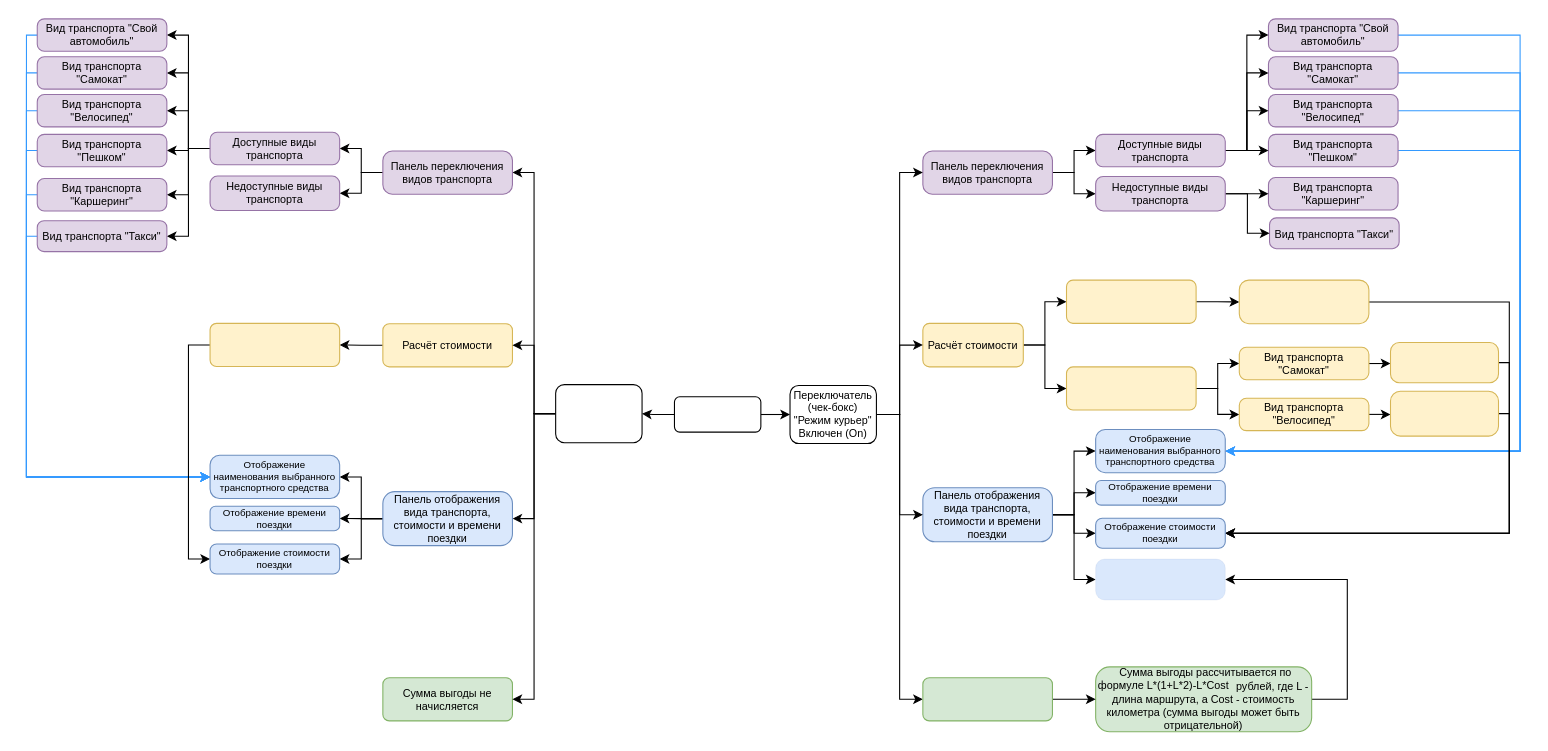
This 1548x751 diagram has some shape labels left out. Each missing label, with the centre of its shape:
1,5 руб. за км. (-1,5 руб. от базовой стоимости аренды): [1443,413]
10 руб. за км. (-10 руб. от базовой стоимости передвижения): [1303,301]
2 руб. за км. (-3,5 руб. от базовой стоимости аренды): [1443,362]
Курьерский режим: [717,414]
Начисление суммы выгоды: [987,699]
Отображение суммы выгоды (выгода может быть отрицательной): [1160,579]
Переключатель (чек-бокс) "Режим курьер Выключен (Off): [598,413]
Происходит как обычно (без учета скидок): [274,344]
Расходы на в ид транспорта "Свой автомобиль": [1130,301]
Расчёт стоимости аренды: [1130,388]
